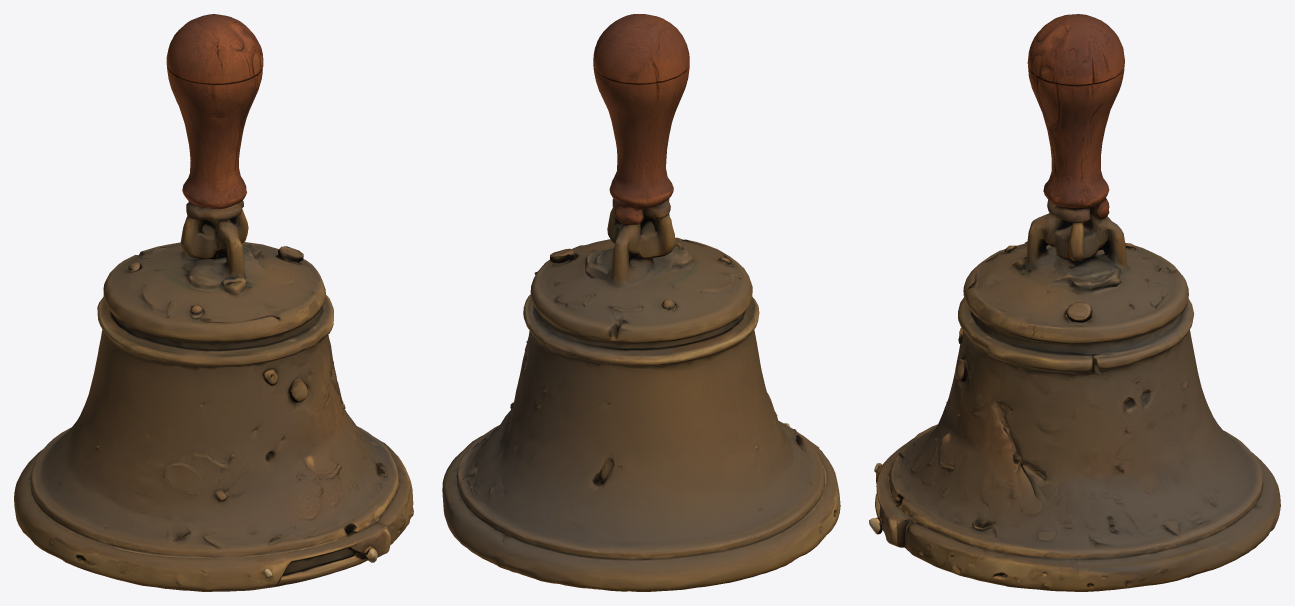
The picture shows the model from 3 angles, left to right: view 1: azimuth 30°, elevation 25°; view 2: azimuth 150°, elevation 25°; view 3: azimuth 270°, elevation 25°; orthographic projection.
Visible parts, largest first — view 1: tripo_node_449b3985-b538-4091-8070-9c80937a207f; view 2: tripo_node_449b3985-b538-4091-8070-9c80937a207f; view 3: tripo_node_449b3985-b538-4091-8070-9c80937a207f.
Boxes of the visible parts, x1,y1,x2,y2 form: tripo_node_449b3985-b538-4091-8070-9c80937a207f: [14, 14, 413, 591]; tripo_node_449b3985-b538-4091-8070-9c80937a207f: [442, 14, 840, 591]; tripo_node_449b3985-b538-4091-8070-9c80937a207f: [869, 14, 1280, 591].
Bounding box in the file's own units: 0.7384 × 1 × 0.7578.
Materials: 1 (1 with a texture image).
